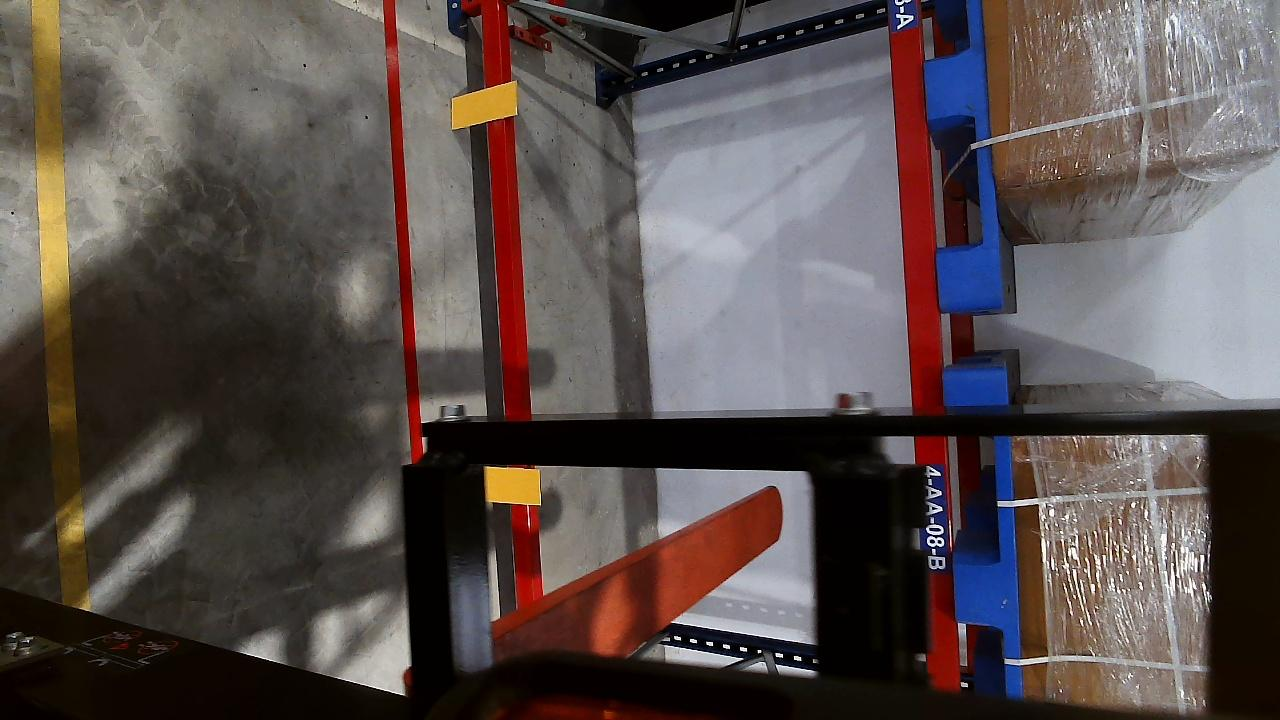h_rack: (890, 1, 959, 689), (476, 2, 547, 603)
orange_strip: (450, 82, 519, 129), (484, 466, 541, 505)
red_line: (379, 0, 423, 458)
small_pallet: (916, 0, 1007, 305), (937, 366, 1017, 688)
yellow_line: (27, 0, 84, 609)
